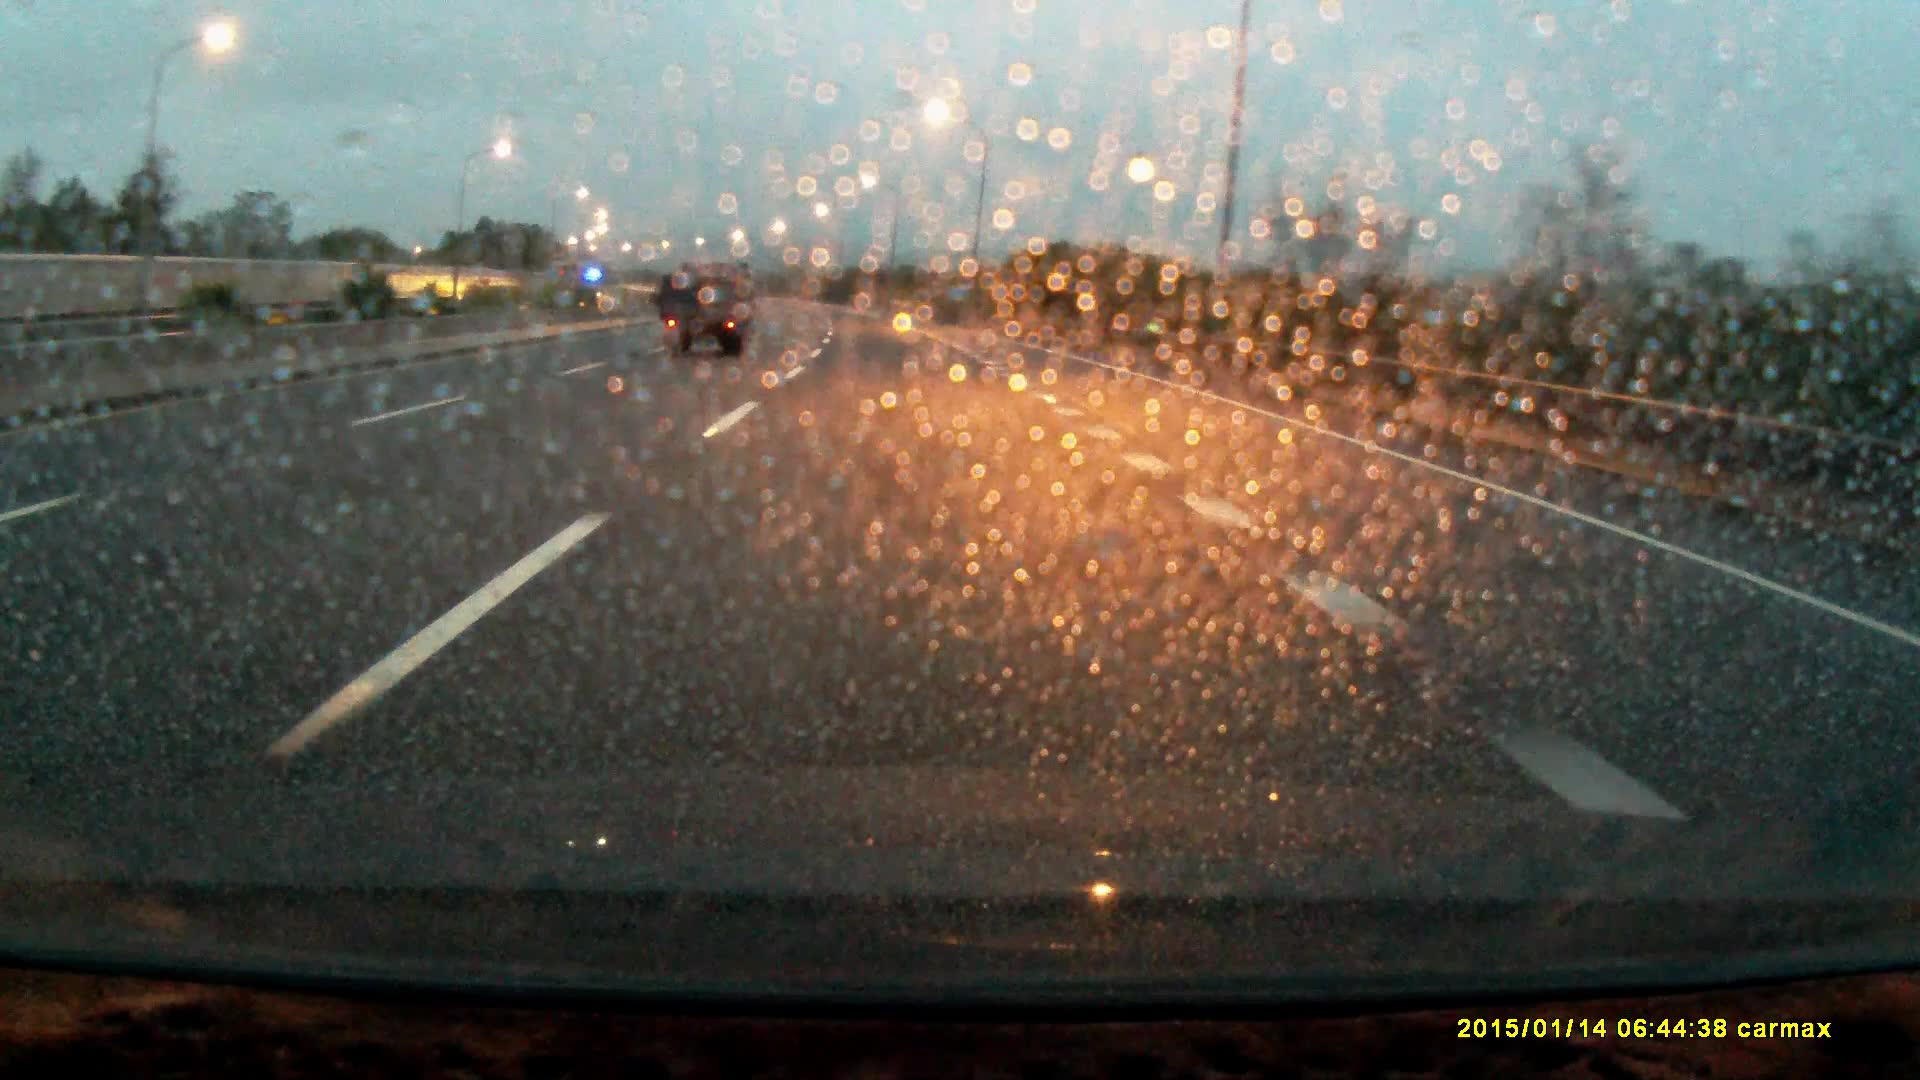vehicle: (665, 262, 756, 363)
